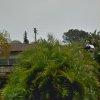Palm tree: (32, 23, 38, 41)
